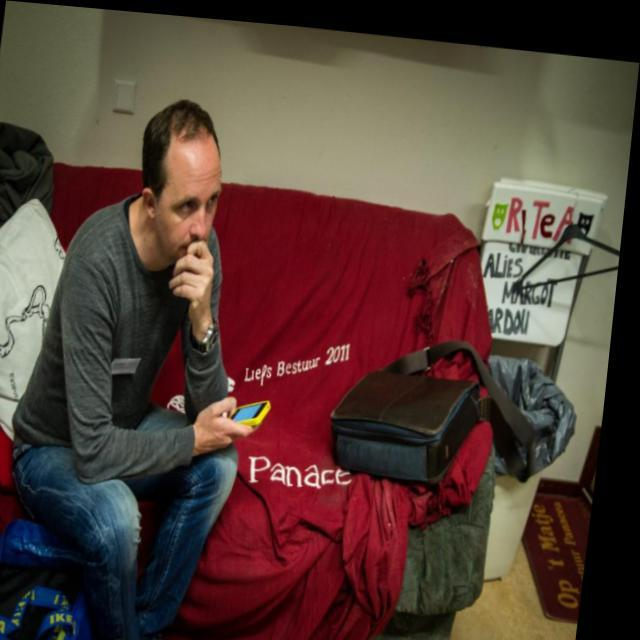Nonhelmet: (133, 96, 228, 269)
